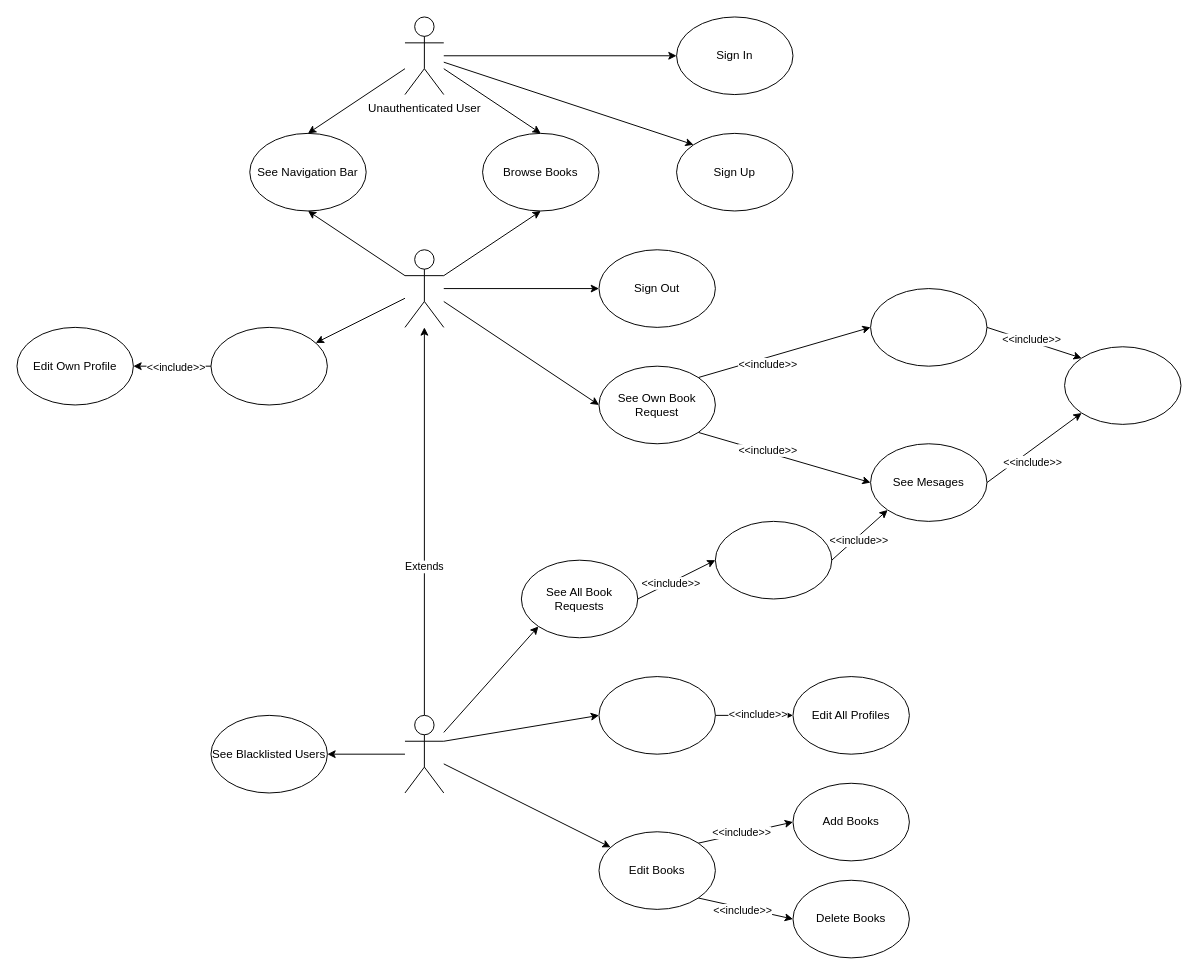
Some shapes in this 1198 by 975 pixel diagram are drawn without their labels. Each missing label, with the centre of its shape:
"Administrator" goes at point 424,753.
"Authenticated User" goes at point 424,288.
"Handle All Book Requests" goes at point 773,559.
"Make Book Reqest" goes at point 928,327.
"See All Profiles" goes at point 656,715.
"See Own Profile" goes at point 268,365.
"Send Mesages" goes at point 1122,385.
